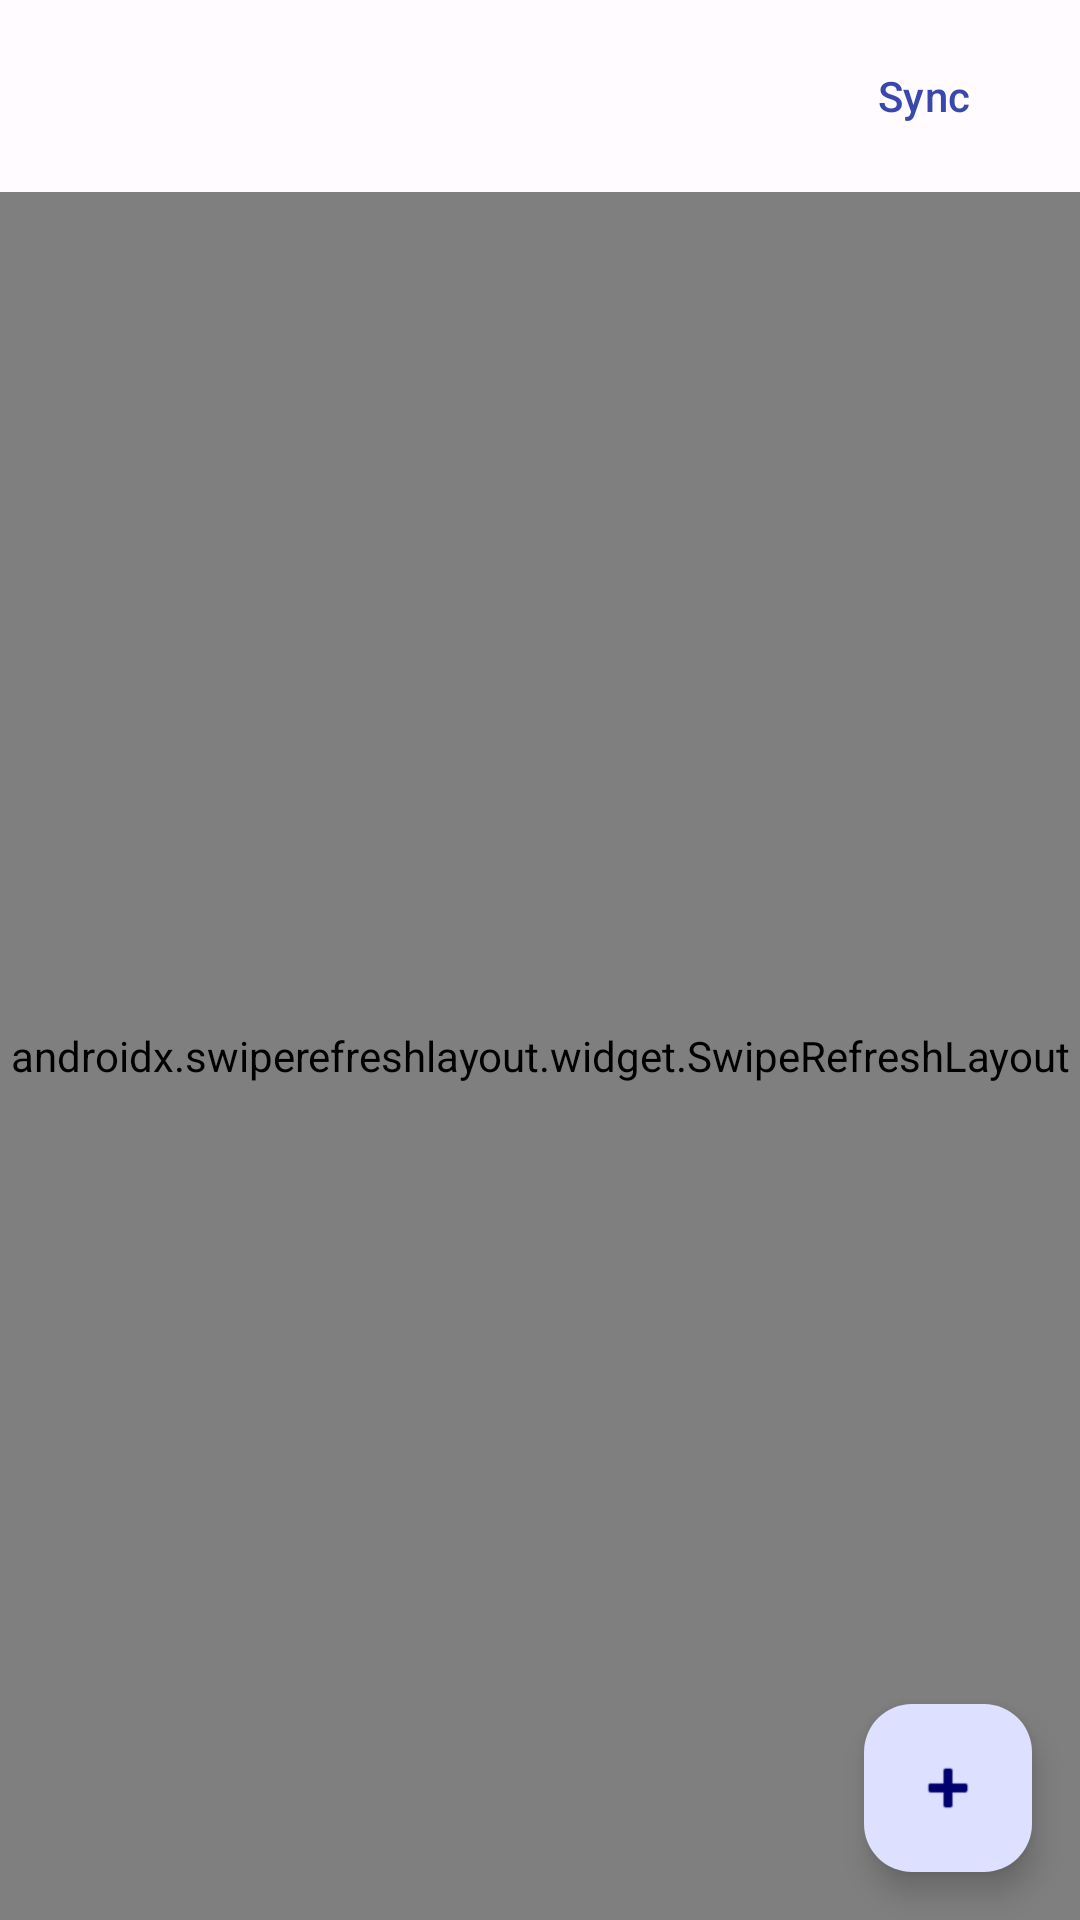

Icon click points for this 1080px×1920px phone screenshot, format [x,y]:
Add Entry: [948,1788]
